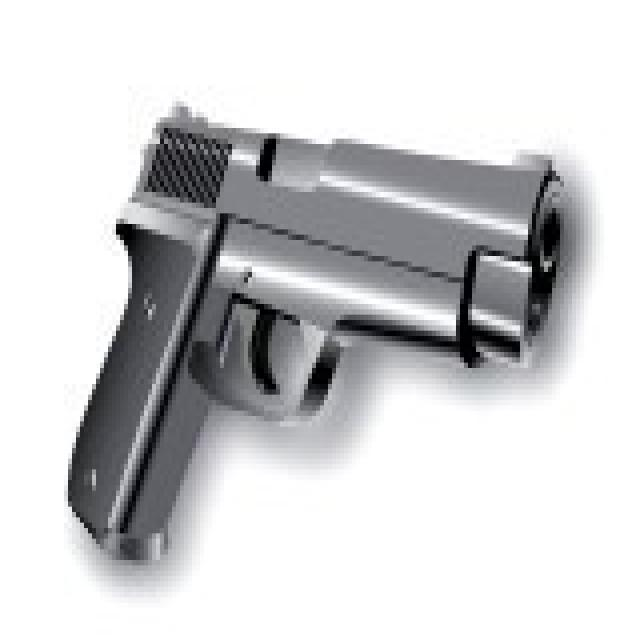Gun: (69, 77, 587, 567)
